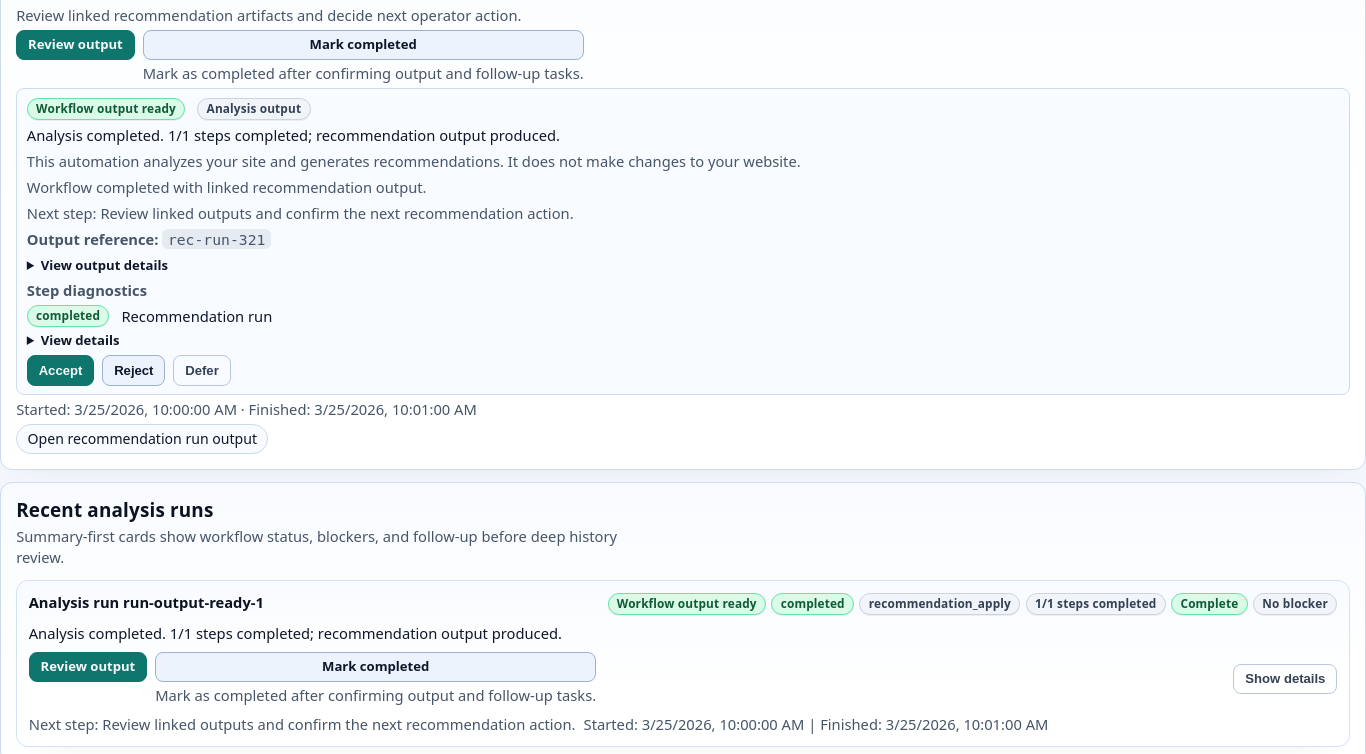
Test: automation page shared-shell framing › captures output review decisions locally for output-ready runs
(page scrolled)
Click the button "Accept" at (61, 370), box [27,355,94,386]
(page scrolled)
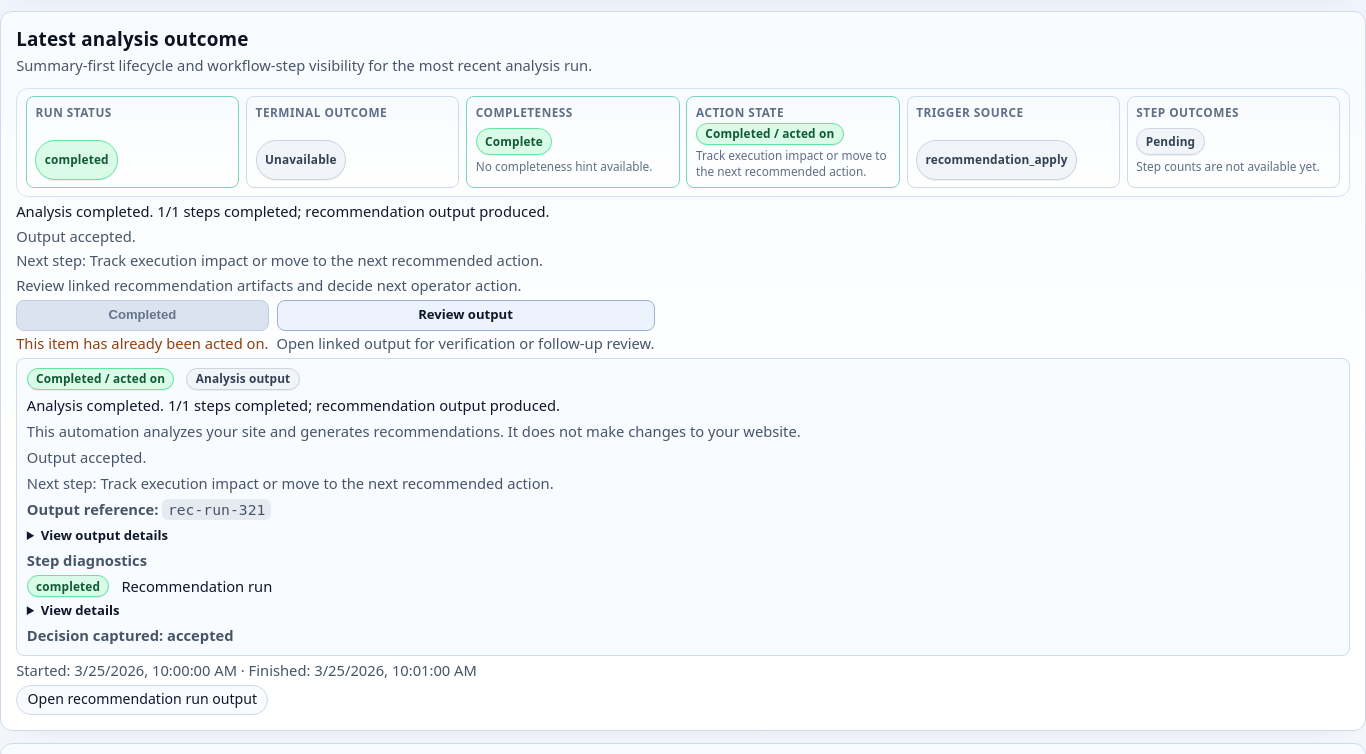
expect the text "Decision captured: accepted" is shown: met, box [27,625,234,645]
expect the element with test id "automation-latest-run-summary" shows "Completed / acted on": met, box [705,125,834,141]
expect the element with test id "automation-latest-run-summary" shows "Track execution impact or move to the next recommended action.": met, box [696,147,887,179]
